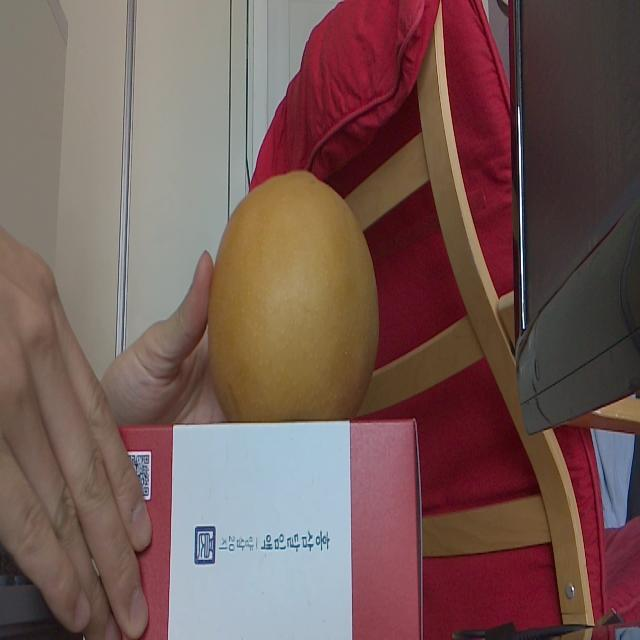pear: (209, 172, 378, 421)
